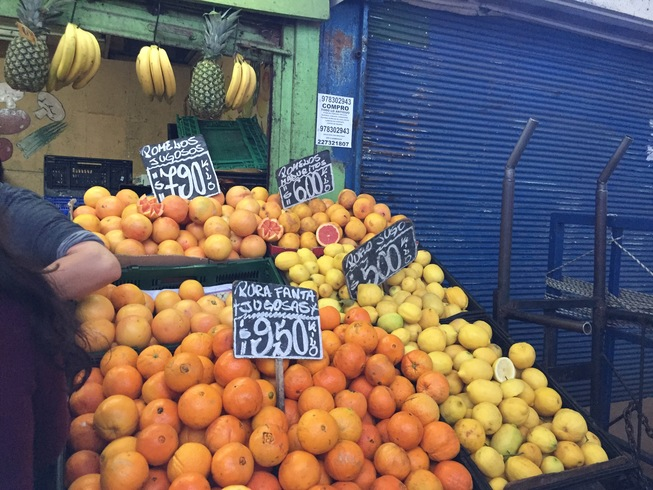precio: (228, 279, 321, 363), (139, 131, 227, 218), (346, 223, 422, 304), (274, 147, 343, 217)
